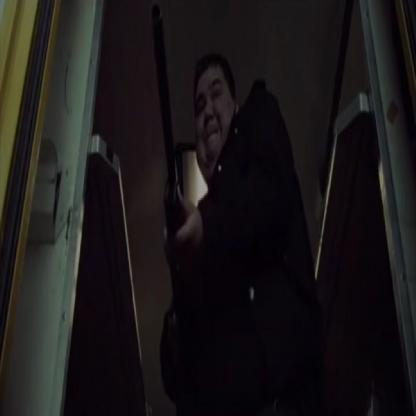Guns: (146, 0, 201, 375)
